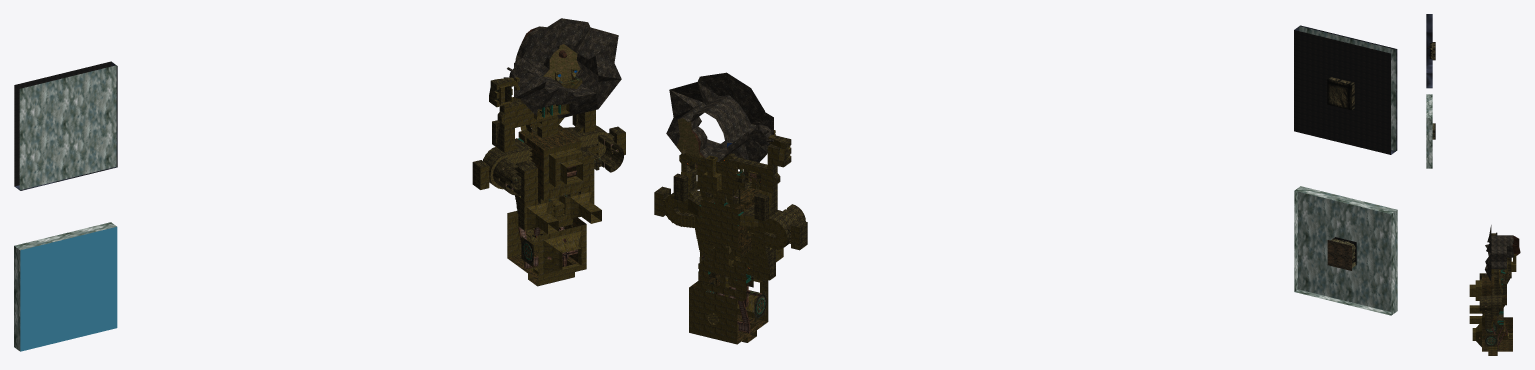
File: DM-MysticShrine.obj
3 renders of one model, left to right at view 1: azimuth 30°, elevation 25°; view 2: azimuth 150°, elevation 25°; view 3: azimuth 270°, elevation 25°, orthographic. The views are drawn at different scales.
Parts seen in each view (by area): view 1: genfluid_Sky_SkytstA, Ancient_Floor_az-floor, ShaneDay_DayskyB, GenEarth_Rock_Wrcka3, Ancient_Wall_Basicrok, Ancient_Wall_Basic2-v2, Ancient_Base_BASIC2, ShaneDay_Dbottm, GenEarth_Ground_Grass; view 2: Ancient_Floor_az-floor, genfluid_Sky_SkytstA, ShaneDay_Dbottm, GenEarth_Rock_Wrcka3, Ancient_Wall_Basicrok, Ancient_Wall_Basic2-v2, skybox_grd, GenEarth_Rock_Rock9, GenEarth_Ground_Grass; view 3: Ancient_Wall_Basicrok, Ancient_Floor_az-floor, GenEarth_Rock_Wrcka3, Ancient_Wall_Basic2-v2, genfluid_Sky_SkytstA, genfluid_Sky_BlueSky, Ancient_Deco_az-3a, NaliCast_Base_wbase3, GenIn_Deco_Rotwood.
Boxes of the visible parts, x1=… form: genfluid_Sky_SkytstA: x1=14, y1=65, x2=116, y2=351; Ancient_Floor_az-floor: x1=480, y1=69, x2=625, y2=286; ShaneDay_DayskyB: x1=20, y1=227, x2=117, y2=351; GenEarth_Rock_Wrcka3: x1=503, y1=18, x2=621, y2=236; Ancient_Wall_Basicrok: x1=472, y1=78, x2=625, y2=230; Ancient_Wall_Basic2-v2: x1=507, y1=125, x2=586, y2=285; Ancient_Base_BASIC2: x1=490, y1=67, x2=618, y2=242; ShaneDay_Dbottm: x1=14, y1=61, x2=111, y2=186; GenEarth_Ground_Grass: x1=543, y1=44, x2=580, y2=79; Ancient_Floor_az-floor: x1=654, y1=130, x2=799, y2=344; genfluid_Sky_SkytstA: x1=1294, y1=26, x2=1397, y2=315; ShaneDay_Dbottm: x1=1294, y1=30, x2=1390, y2=154; GenEarth_Rock_Wrcka3: x1=666, y1=72, x2=774, y2=270; Ancient_Wall_Basicrok: x1=655, y1=135, x2=807, y2=287; Ancient_Wall_Basic2-v2: x1=689, y1=187, x2=767, y2=344; skybox_grd: x1=1327, y1=77, x2=1354, y2=110; GenEarth_Rock_Rock9: x1=1327, y1=240, x2=1351, y2=270; GenEarth_Ground_Grass: x1=676, y1=118, x2=703, y2=158; Ancient_Wall_Basicrok: x1=1479, y1=233, x2=1511, y2=328; Ancient_Floor_az-floor: x1=1469, y1=254, x2=1516, y2=350; GenEarth_Rock_Wrcka3: x1=1485, y1=225, x2=1514, y2=281; Ancient_Wall_Basic2-v2: x1=1482, y1=276, x2=1512, y2=355; genfluid_Sky_SkytstA: x1=1426, y1=94, x2=1432, y2=168; genfluid_Sky_BlueSky: x1=1426, y1=14, x2=1432, y2=88; Ancient_Deco_az-3a: x1=1485, y1=323, x2=1497, y2=346; NaliCast_Base_wbase3: x1=1512, y1=235, x2=1520, y2=256; GenIn_Deco_Rotwood: x1=1479, y1=273, x2=1507, y2=350.
Bounding box in the file's own units: 304 × 166 × 73.79.
